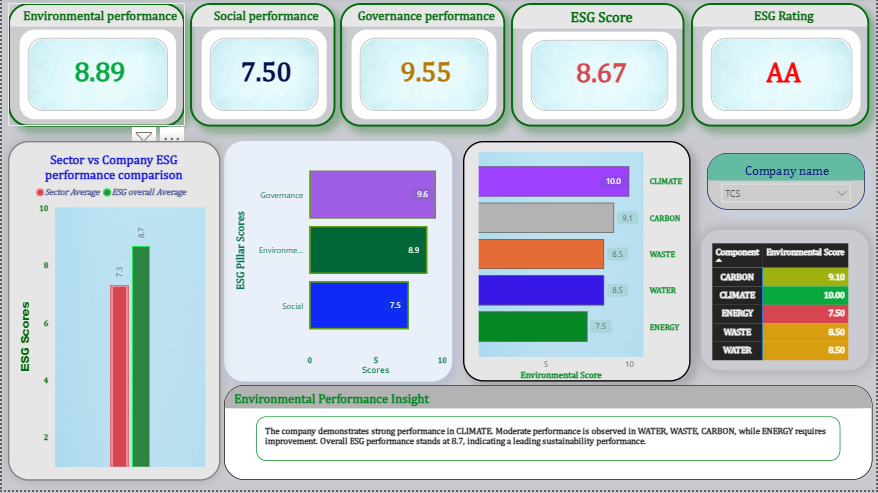

Layout of this report page (visuals, bound fields, positions):
{"tool":"powerbi","page":{"name":"Company Deep Dive","canvas":[1280,720],"ordinal":1},"visuals":[{"type":"cardVisual","title":"Environmental  performance","fields":{"Data":["ESG Ratings.Avg Environmental"]},"box":[8.5,6.6,258.8,181.4],"z":0},{"type":"cardVisual","title":"Social performance","fields":{"Data":["ESG Ratings.Avg Social"]},"box":[274.9,6.6,212.5,181.4],"z":1000},{"type":"cardVisual","title":"Governance  performance","fields":{"Data":["ESG Ratings.Avg Governance"]},"box":[494.1,6.6,241.8,181.4],"z":2000},{"type":"cardVisual","title":"ESG Score","fields":{"Data":["ESG Ratings.ESG Rating KPI"]},"box":[744.4,6.6,254.1,181.4],"z":3000},{"type":"cardVisual","title":"ESG Rating","fields":{"Data":["Min(ESG Ratings.ESG_rating)"]},"box":[1007.9,6.6,260.7,181.4],"z":4000},{"type":"clusteredBarChart","fields":{"Category":["ESG Pillars.Pillar"],"Y":["ESG Ratings.ESG Pillar Score"]},"box":[325.1,208.7,334,351.9],"z":5000},{"type":"clusteredColumnChart","title":"Sector vs Company ESG performance comparison","fields":{"Y":["ESG Ratings.Sector Avg ESG","ESG Ratings.ESG Rating KPI"]},"box":[8.1,208.7,310.7,497],"z":6000},{"type":"clusteredBarChart","fields":{"Category":["Env Components.Component"],"Y":["Env Components.Env Score"]},"box":[675.2,208.7,333.1,351.9],"z":7000},{"type":"pivotTable","fields":{"Rows":["Env Components.Component"],"Values":["Env Components.Env Score"]},"box":[1020.9,338.8,248.3,208.5],"z":8000},{"type":"cardVisual","title":"Environmental Performance Insight","fields":{"Data":["Env Components.Env Insight"]},"box":[325.1,566.9,949.3,138.8],"z":9000},{"type":"slicer","title":"Company name","fields":{"Values":["ESG Ratings.company"]},"box":[1031.7,226.9,231.5,82.8],"z":9001}]}

Visuals, with their boxes in screenshot pixels (x1, y1, x2, y2), scaled from the page's 1280x720 canvas onto the 878x493 screenshot:
"Environmental  performance" cardVisual: detection(6, 5, 183, 129)
"Social performance" cardVisual: detection(189, 5, 334, 129)
"Governance  performance" cardVisual: detection(339, 5, 505, 129)
"ESG Score" cardVisual: detection(511, 5, 685, 129)
"ESG Rating" cardVisual: detection(691, 5, 870, 129)
clusteredBarChart - ESG Pillars.Pillar x ESG Ratings.ESG Pillar Score: detection(223, 143, 452, 384)
"Sector vs Company ESG performance comparison" clusteredColumnChart: detection(6, 143, 219, 483)
clusteredBarChart - Env Components.Component x Env Components.Env Score: detection(463, 143, 692, 384)
pivotTable - Env Components.Component x Env Components.Env Score: detection(700, 232, 871, 375)
"Environmental Performance Insight" cardVisual: detection(223, 388, 874, 483)
"Company name" slicer: detection(708, 155, 866, 212)
